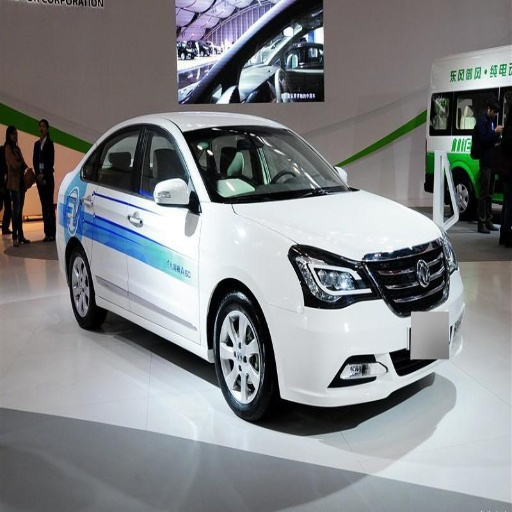front_bumper: (265, 237, 465, 407)
front_right_door: (122, 124, 201, 338)
front_right_light: (288, 246, 375, 306)
